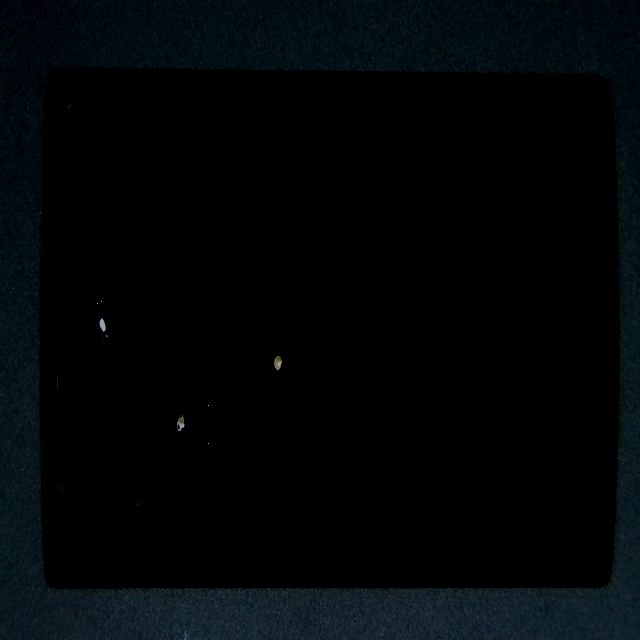stain: (127, 205, 381, 615), (76, 222, 235, 640), (56, 120, 137, 469)
